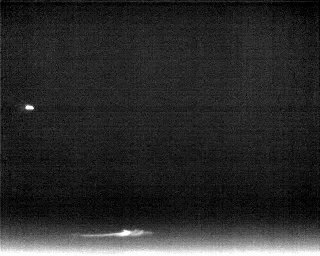AIRPLANE: (23, 102, 36, 113)
